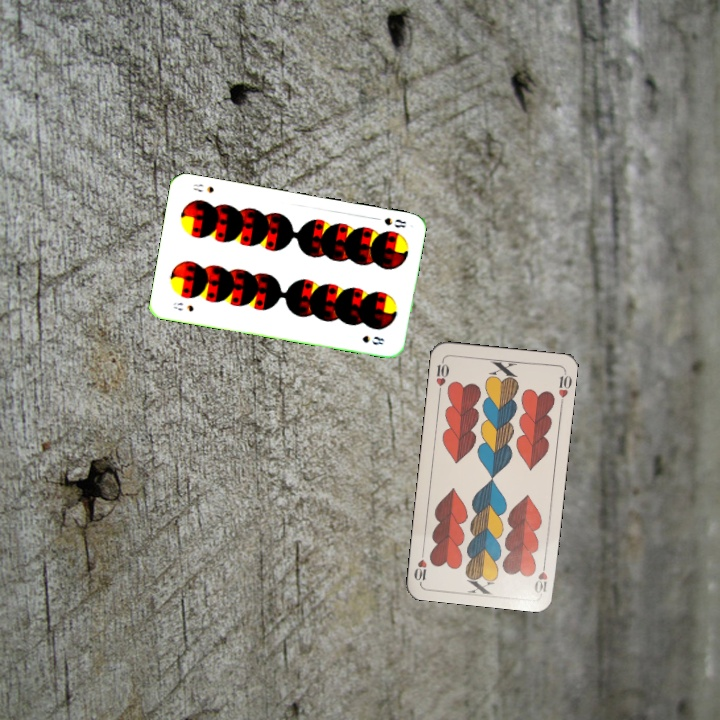H10: (432, 356, 452, 396), (530, 556, 550, 596)
S8: (380, 213, 408, 231), (169, 298, 196, 314)
